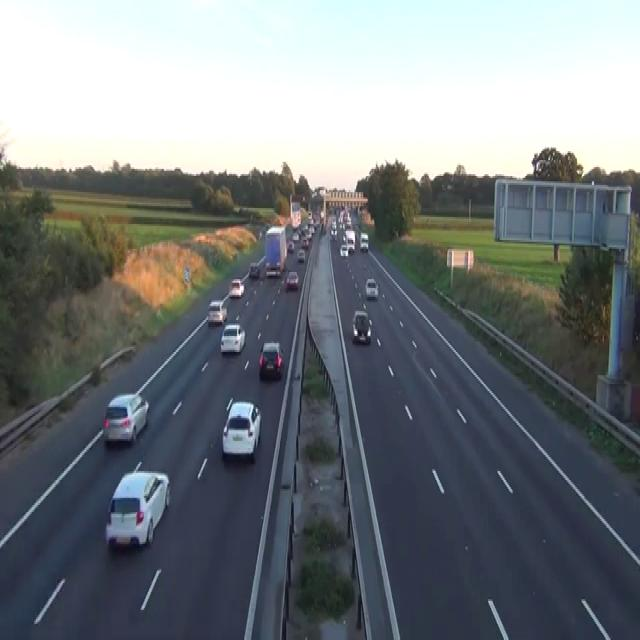Car: (105, 460, 170, 550), (102, 391, 149, 445), (221, 398, 261, 461), (258, 339, 284, 378), (220, 324, 245, 354), (352, 309, 371, 343), (207, 299, 227, 325), (248, 255, 266, 278), (228, 277, 244, 297), (365, 277, 378, 299), (285, 270, 299, 290), (266, 262, 280, 278), (249, 262, 259, 278), (347, 238, 355, 252), (339, 244, 348, 256), (286, 240, 294, 252), (301, 236, 308, 249), (300, 224, 308, 235), (297, 249, 304, 261), (329, 228, 336, 240), (292, 231, 299, 242), (259, 229, 265, 240), (308, 224, 314, 235), (341, 231, 346, 244), (345, 217, 351, 227), (307, 210, 312, 220)
Truck: (265, 226, 287, 276), (290, 201, 301, 229), (359, 231, 368, 251)
